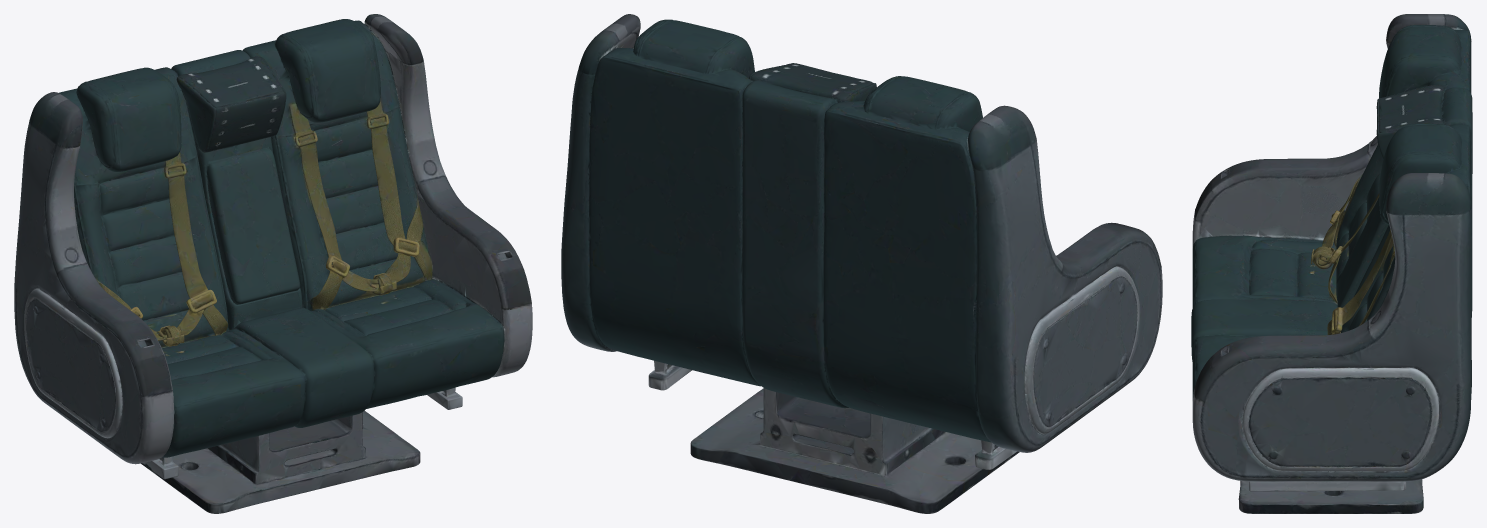
File: couch.glb
The picture shows the model from 3 angles, left to right: view 1: azimuth 30°, elevation 25°; view 2: azimuth 150°, elevation 25°; view 3: azimuth 270°, elevation 25°; orthographic projection. The views are drawn at different scales.
Bounding box in the file's own units: 1.9 × 1.68 × 1.15.
1 material, 1 textured.
